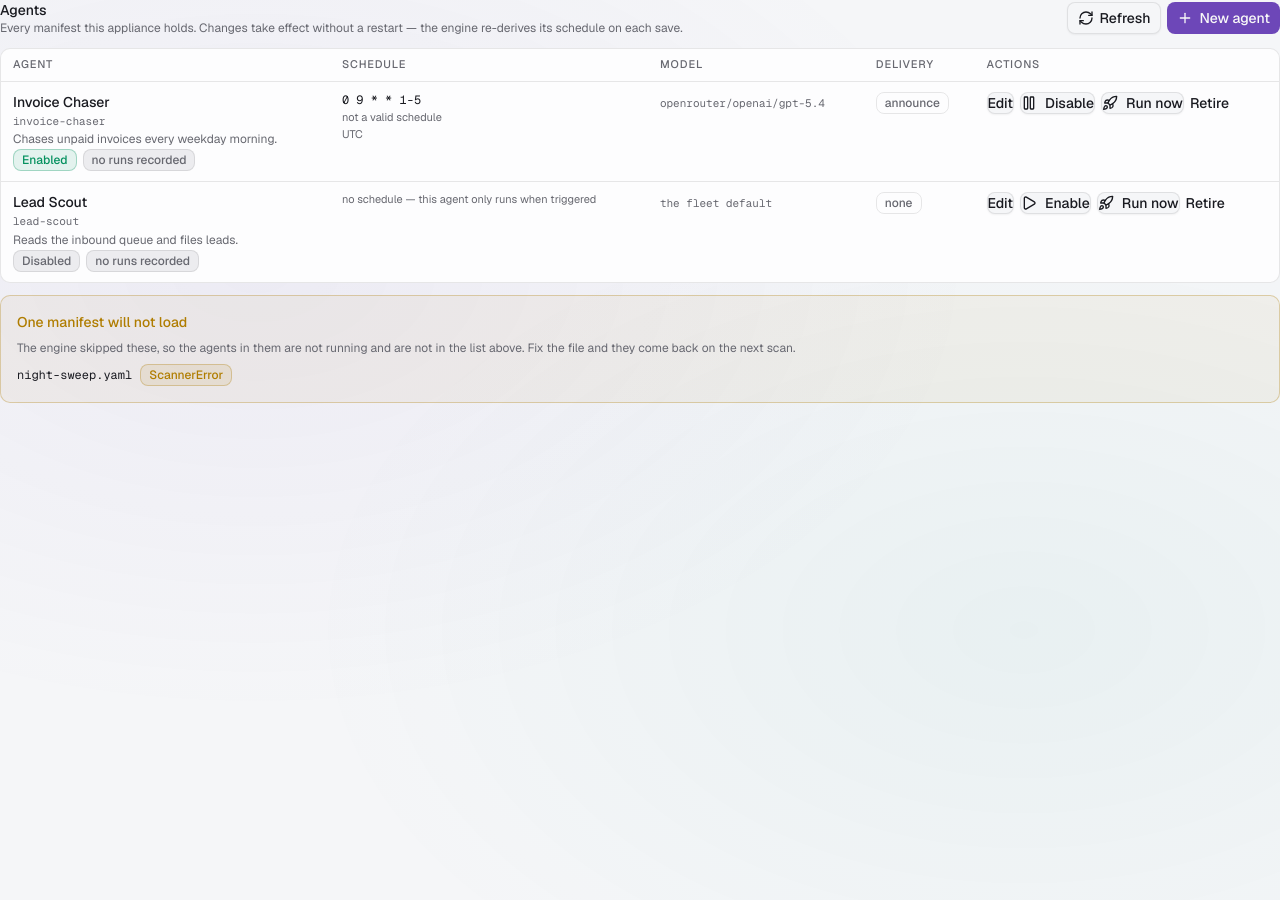
Scenario: AgentManifests — creating › refuses to post a name that derives to no id at all
The width and height of the screenshot is (1280, 900).
Check: the row with test id "agent-row-invoice-chaser" is shown, box left=1, top=81, right=1279, bottom=182
Click the button with test id "agent-new". click: {"x": 1224, "y": 18}
box: left=1167, top=2, right=1279, bottom=34
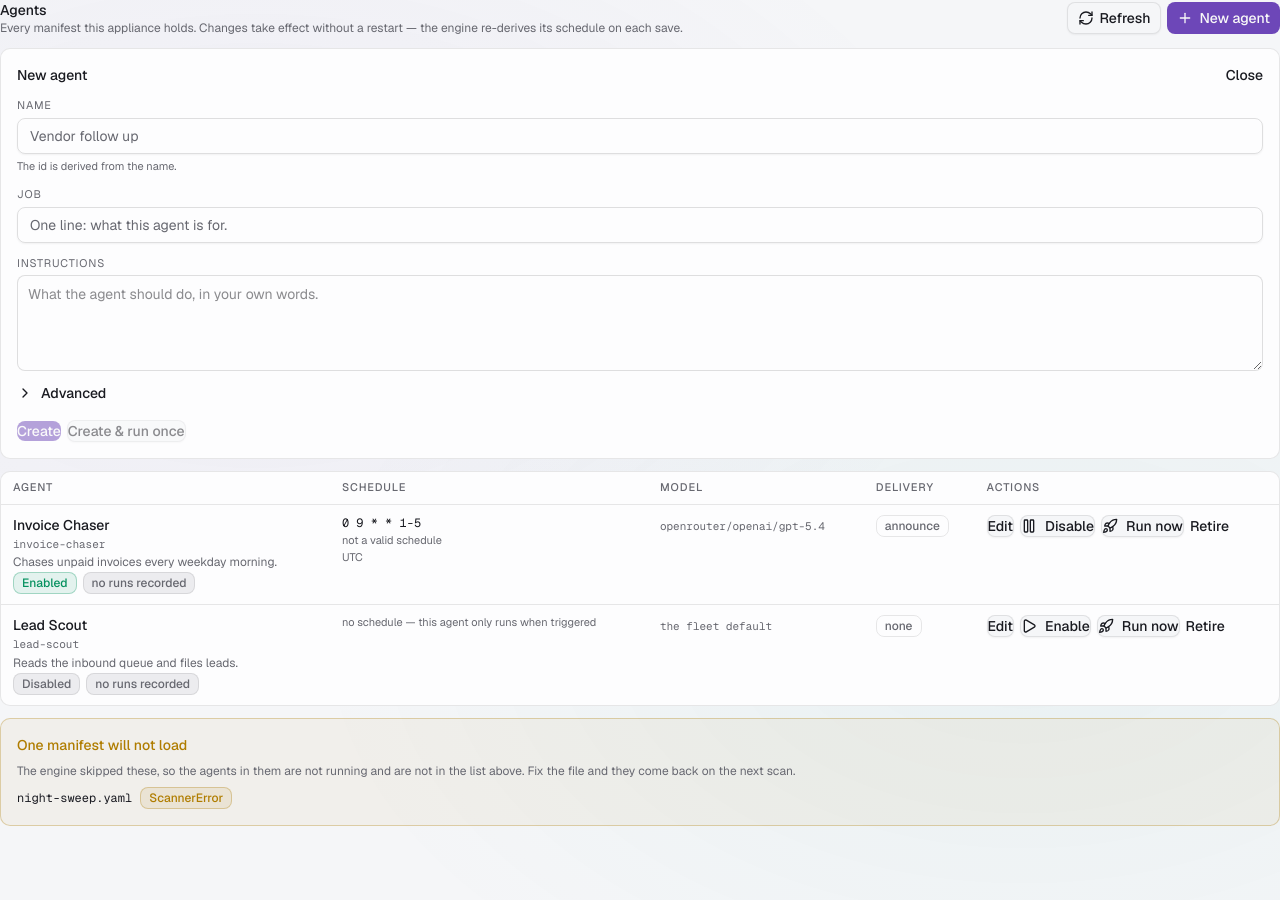
Type "!!!" into the field with test id "agent-field-name". click: {"x": 640, "y": 136}
box: left=17, top=118, right=1263, bottom=154
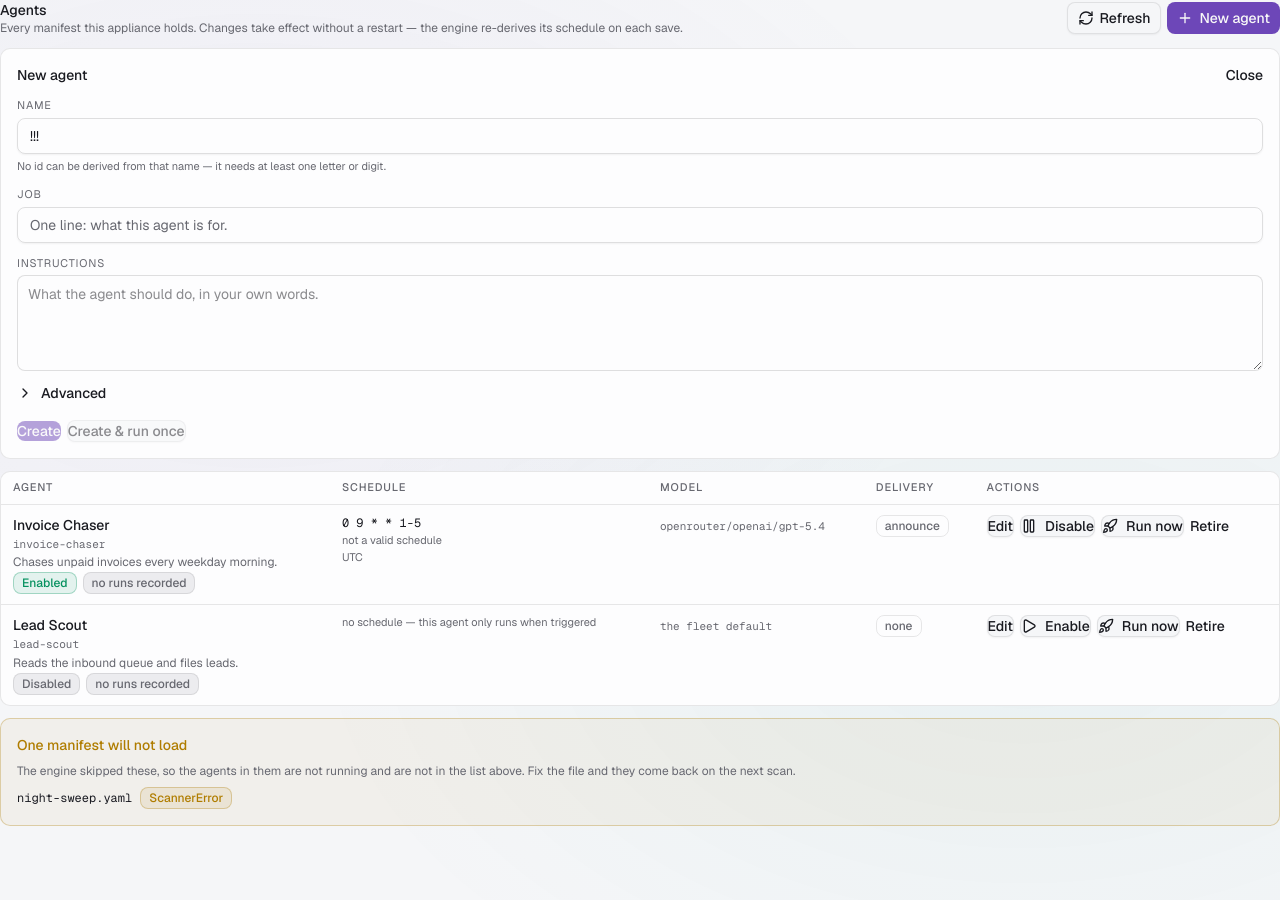
Check: the button with test id "agent-create" is disabled, box left=17, top=421, right=61, bottom=441
Check: the text with test id "agent-derived-id" shows "No id can be derived", box left=17, top=158, right=386, bottom=172
